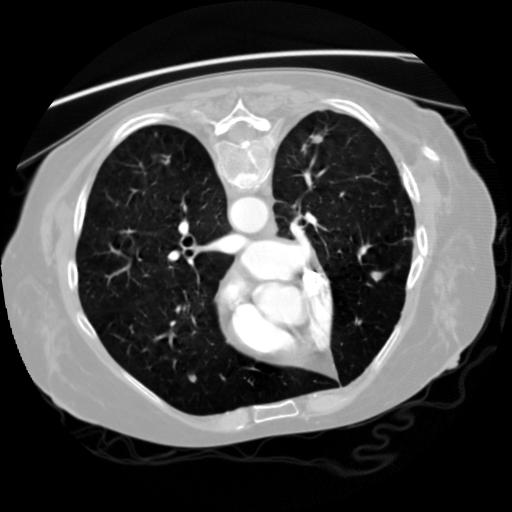nodule: (311, 130, 328, 147)
